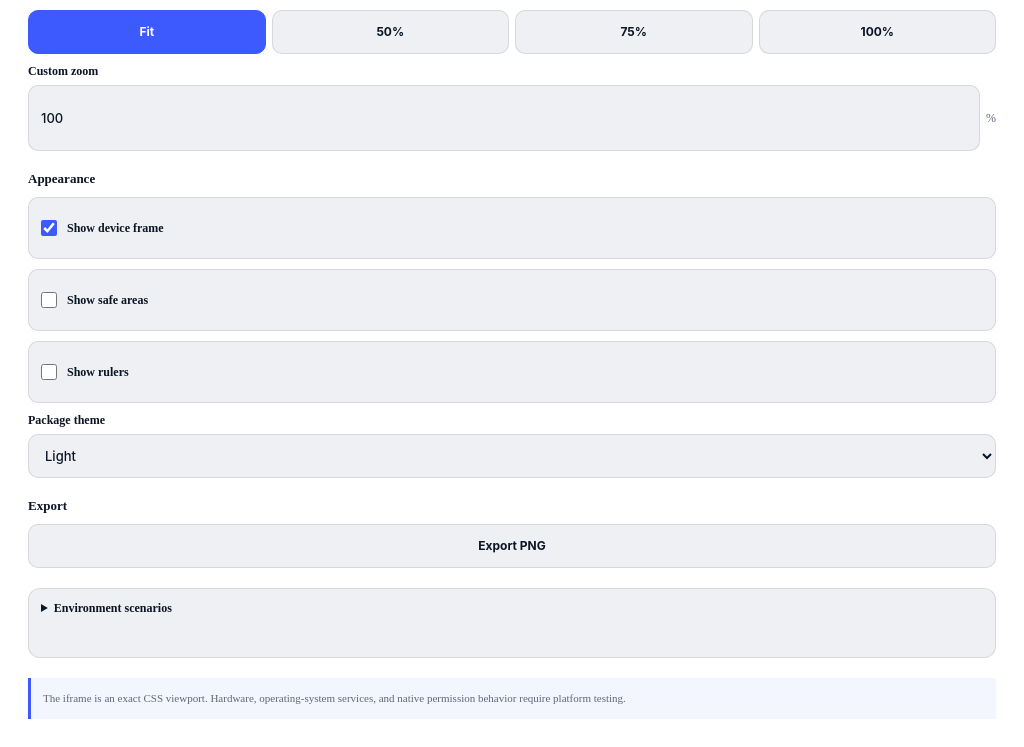
Test: PreviewConfigurationPanel PNG export › surfaces unexpected failures with a generic message
(page scrolled)
What coordinates should you click on to do the following:
click the button "Export PNG"
I would click on:
 (512, 546)
Its box is [28,524,996,568].
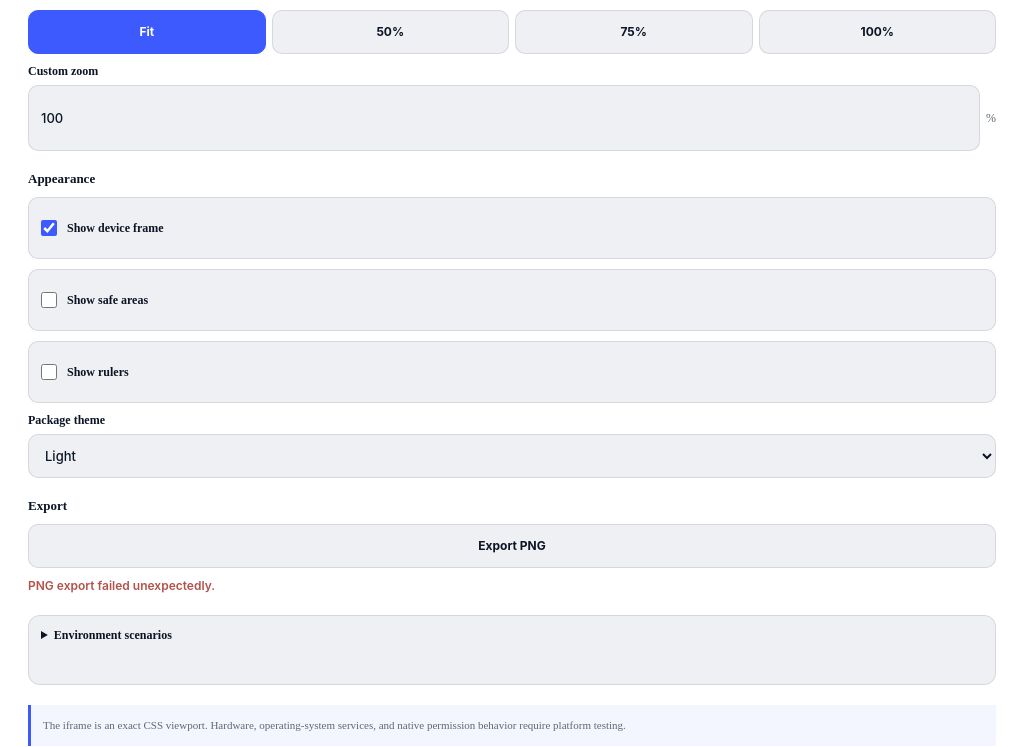
Now the message reads "PNG export failed unexpectedly.", box [28,578,215,593]
